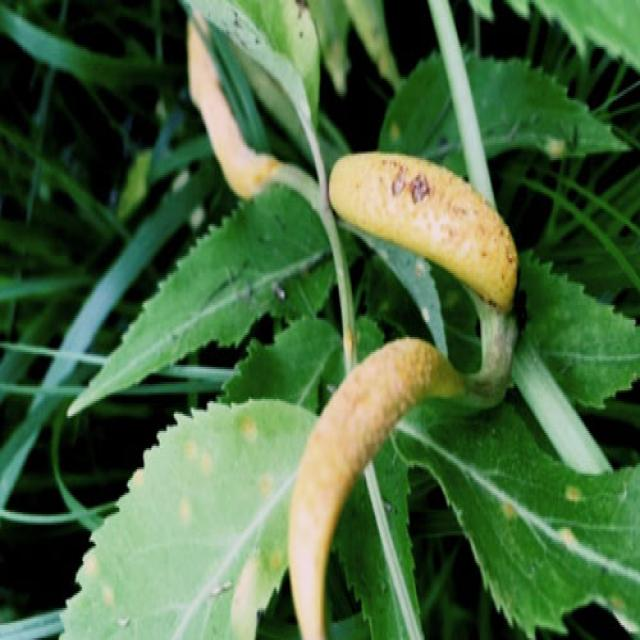Elderberry_rust: (287, 333, 466, 638), (326, 147, 520, 314)
